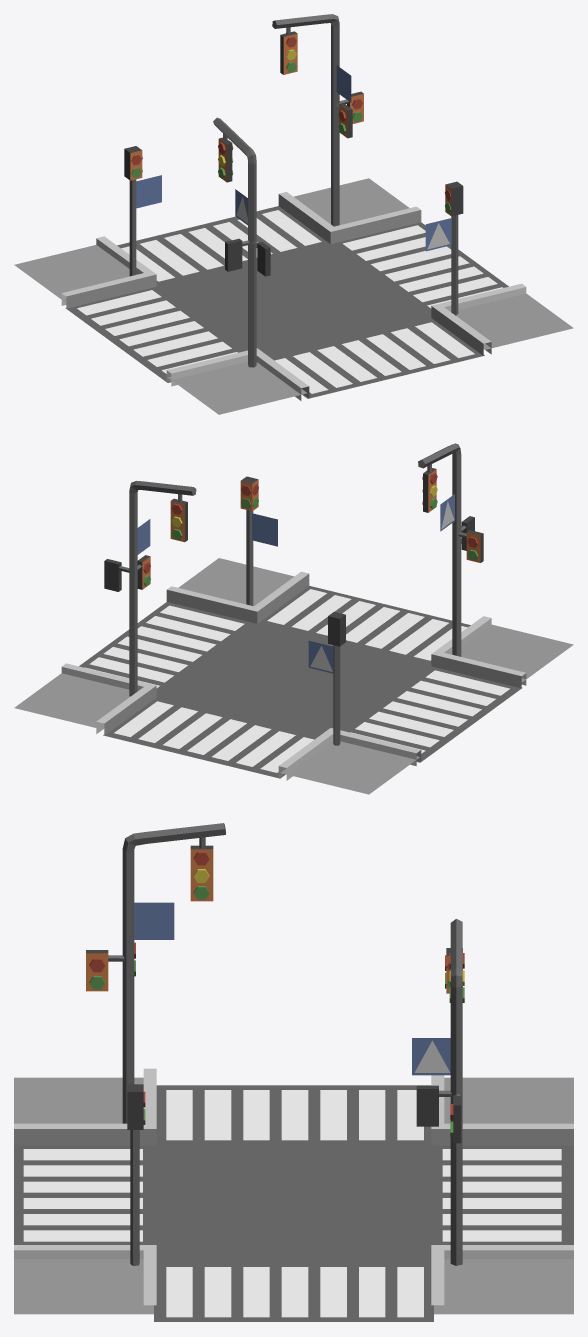
Rendered from street-four.glb.
3 views of the same model, one above another, from view 1: azimuth 30°, elevation 25°; view 2: azimuth 150°, elevation 25°; view 3: azimuth 270°, elevation 25° (orthographic). The views are drawn at different scales.
Parts seen in each view (by area): view 1: city_private_houses.002; view 2: city_private_houses.002; view 3: city_private_houses.002.
Part boxes in pixels (x1,y1,x2,y2): city_private_houses.002: (14,14,573,414); city_private_houses.002: (14,443,573,794); city_private_houses.002: (14,823,573,1321).
Size of the model in its own units: 8 by 4.94 by 8.
Materials: 1 (1 with a texture image).
